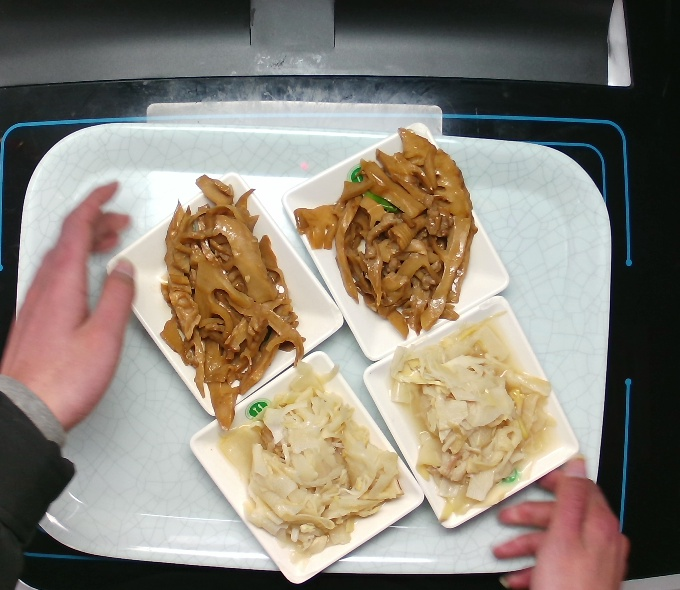wcq-LuSun: (381, 311, 567, 525), (220, 359, 400, 559)
wcq-SunGan: (152, 172, 313, 426), (294, 128, 481, 343)
